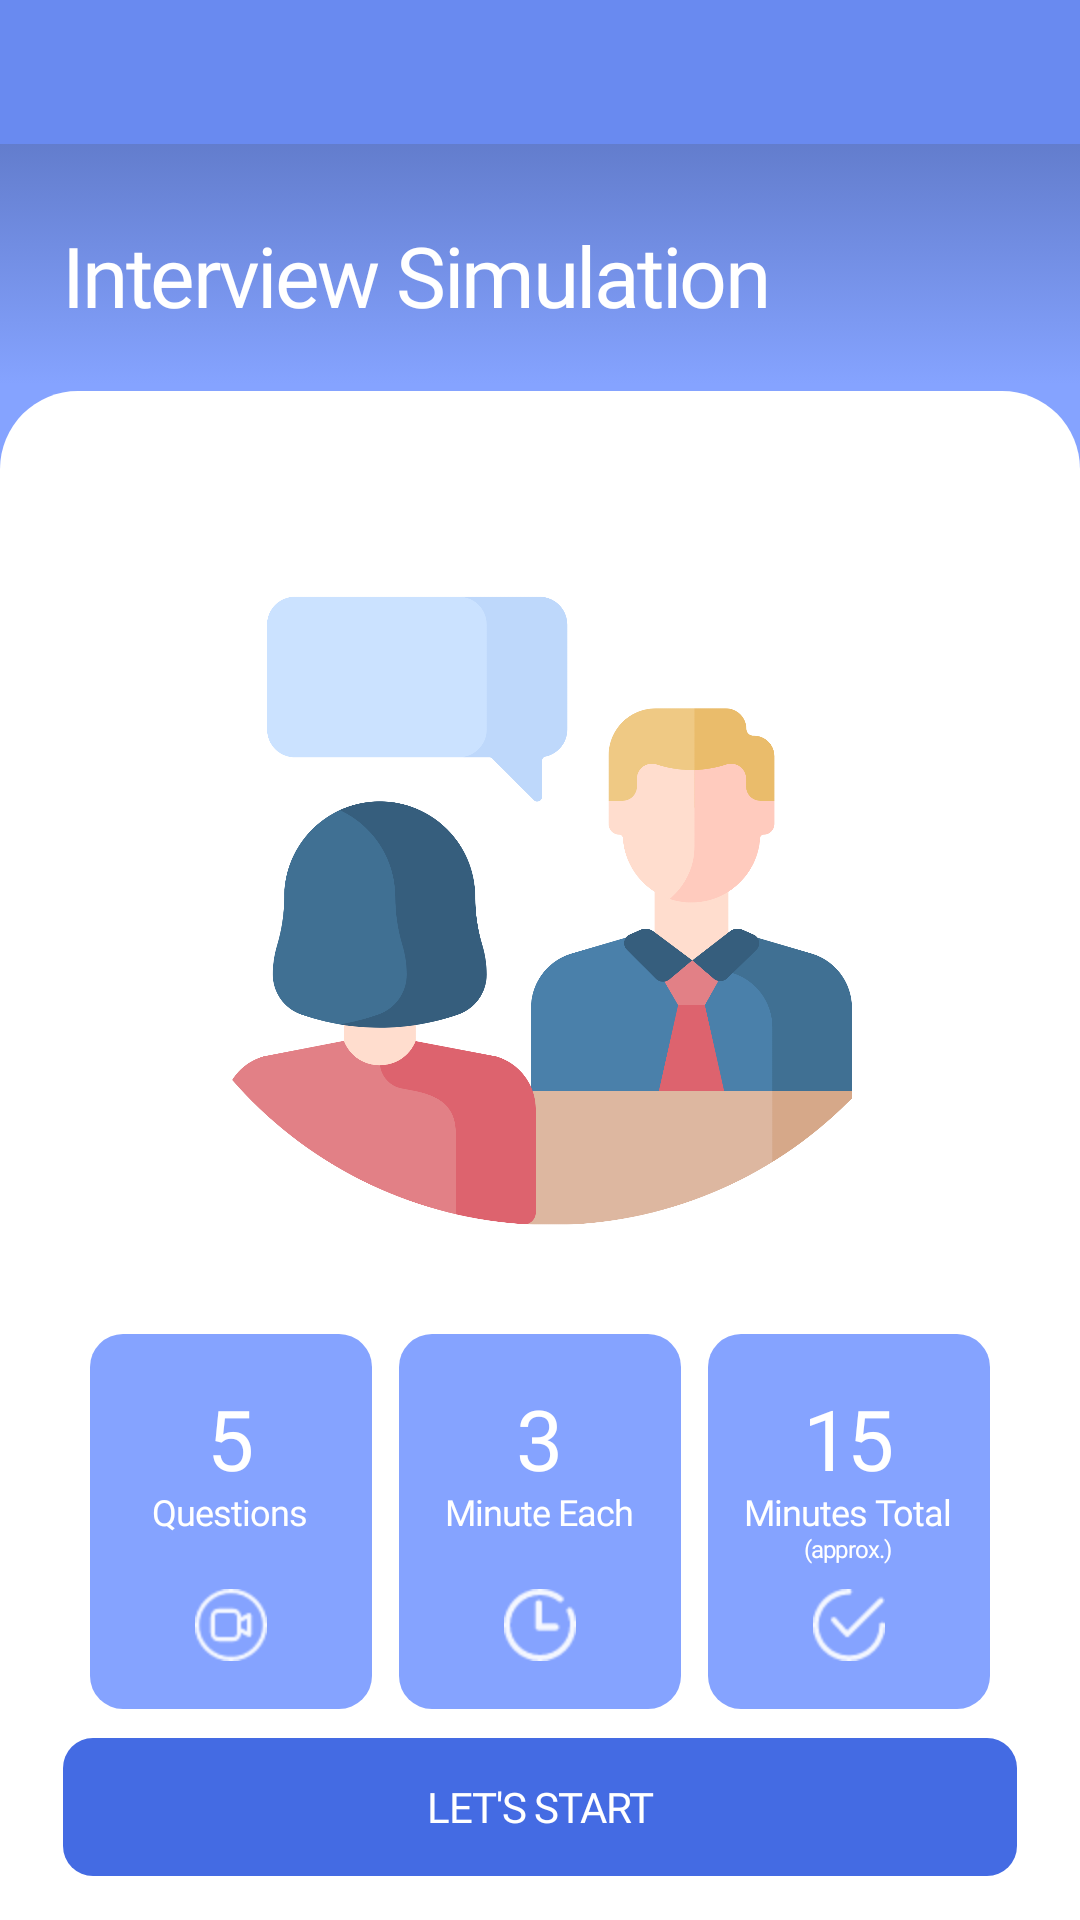

Where icons sit on this 1080w x 1920h app screen, as bbox=(x1, y1, x2, y2):
check: bbox=(813, 1589, 885, 1661)
timer: bbox=(504, 1589, 576, 1661)
videocamera: bbox=(195, 1589, 267, 1661)
